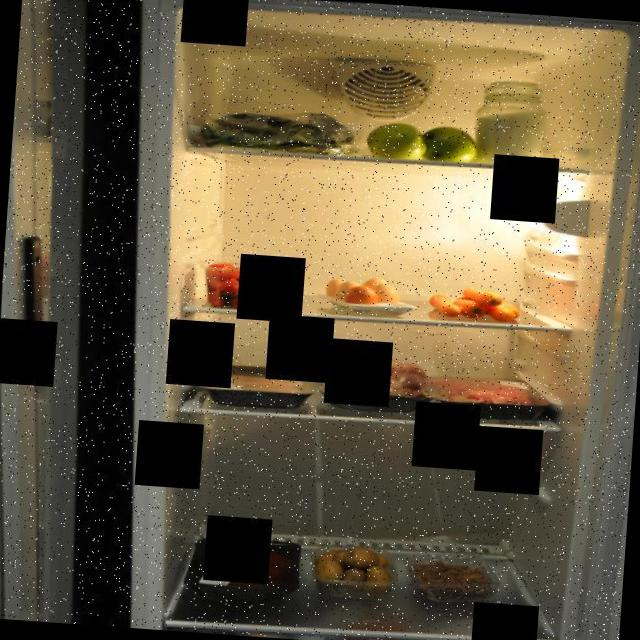Carne pollo: (315, 340, 438, 417), (194, 359, 316, 410)
Carne vacuno: (182, 532, 304, 608), (424, 370, 556, 424)
Gambas/Langostinos: (401, 550, 504, 608)
Huevos: (321, 270, 406, 317)
Manzana: (358, 116, 484, 166)
Patata: (308, 542, 398, 596)
Zanahoria: (422, 281, 528, 326)
spinach: (182, 99, 360, 162)
strawberries: (202, 258, 288, 312)
sugar: (469, 76, 554, 169)
